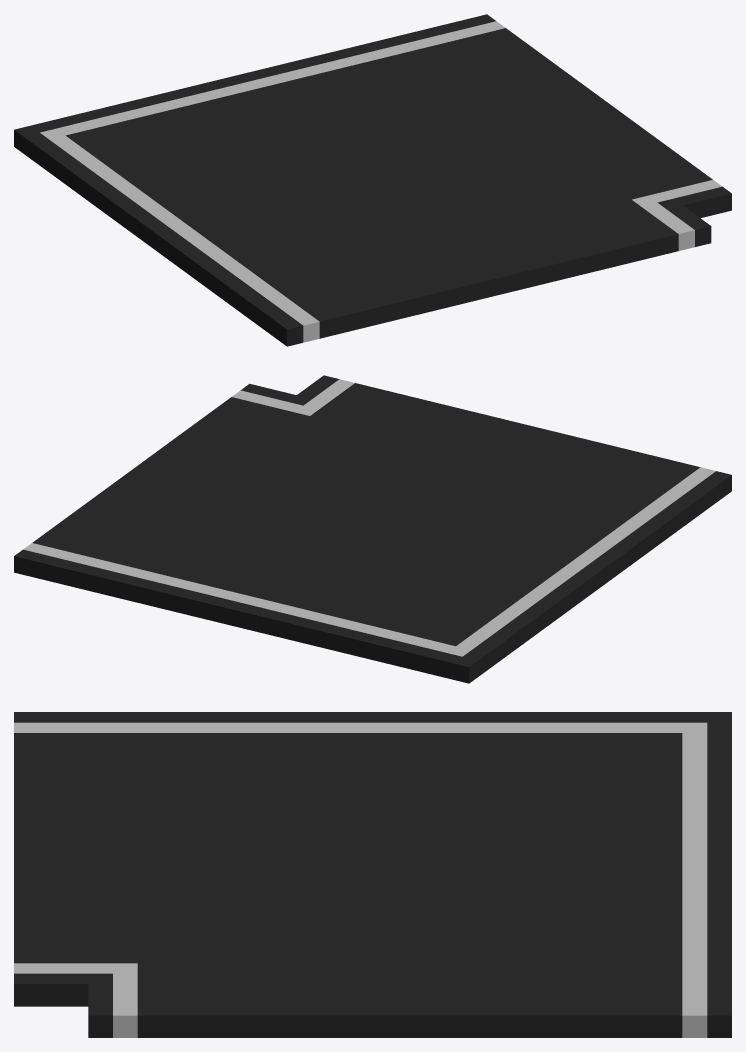
The model's file is road-edgy-curve-4.gltf.
3 views of the same model, one above another, from view 1: azimuth 30°, elevation 25°; view 2: azimuth 150°, elevation 25°; view 3: azimuth 270°, elevation 25° (orthographic). The views are drawn at different scales.
Visible parts, largest first — view 1: road-edgy-curve-4; view 2: road-edgy-curve-4; view 3: road-edgy-curve-4.
Boxes of the visible parts, left/top/right/bottom form: road-edgy-curve-4: left=14, top=14, right=731, bottom=346; road-edgy-curve-4: left=14, top=375, right=731, bottom=683; road-edgy-curve-4: left=14, top=712, right=731, bottom=1037.
Size of the model in its own units: 2.9 by 0.1 by 2.9.
Materials: 1 (1 with a texture image).
